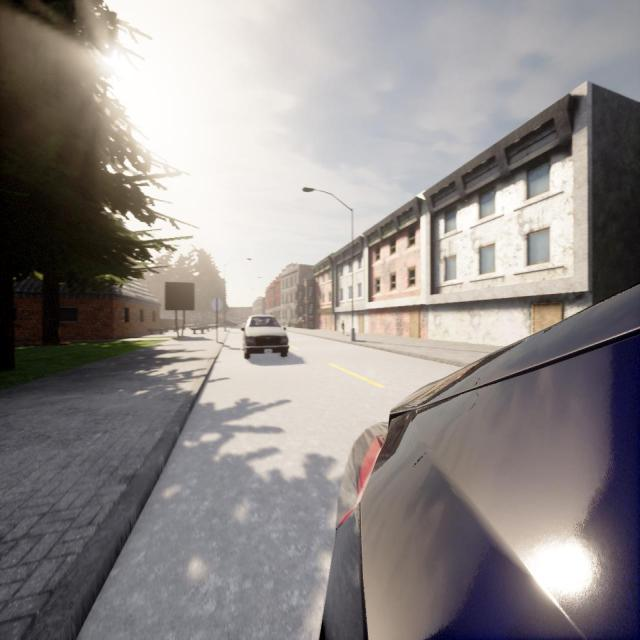Pedestrian: (340, 319, 346, 335)
Traffic_Signs: (210, 298, 222, 312)
Vehicle: (319, 283, 640, 640), (240, 314, 290, 359)
